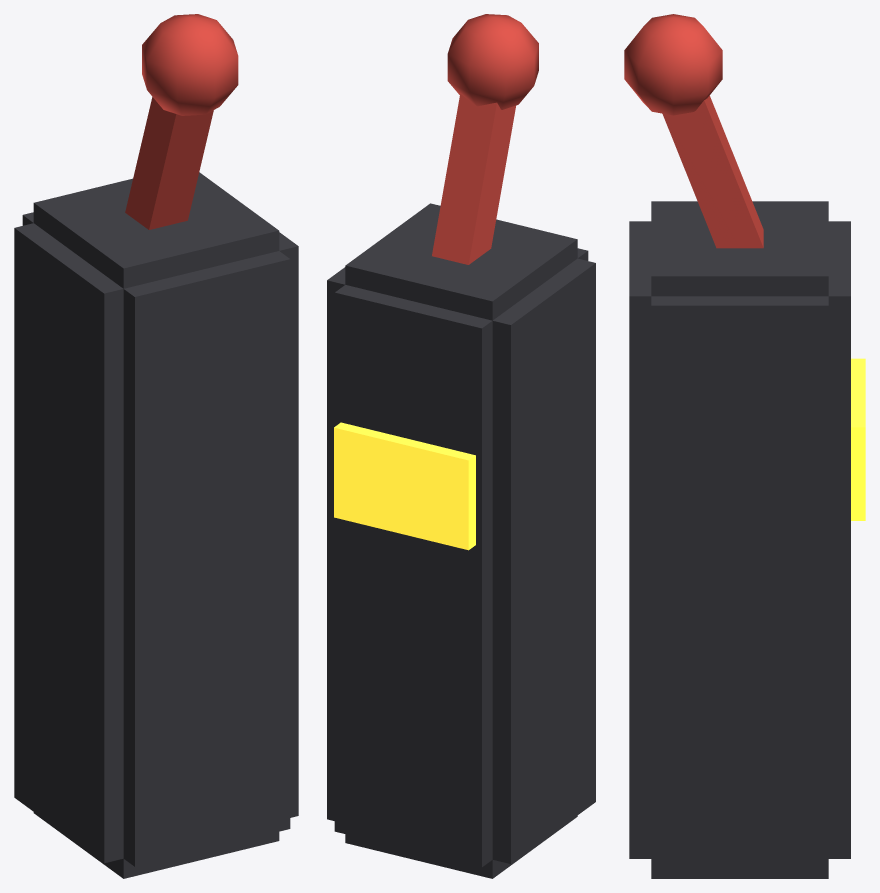
The model's file is vending_lever.glb.
3 views of the same model, side by side, from view 1: azimuth 30°, elevation 25°; view 2: azimuth 150°, elevation 25°; view 3: azimuth 270°, elevation 25° (orthographic). The views are drawn at different scales.
Visible parts, largest first — view 1: vending_lever; view 2: vending_lever; view 3: vending_lever.
Part boxes in pixels (box(x1,y1,x2,y2)): vending_lever: box(14, 14, 298, 878); vending_lever: box(327, 14, 595, 878); vending_lever: box(624, 14, 865, 878).
Size of the model in its own units: 0.3 by 1.23 by 0.3266.
